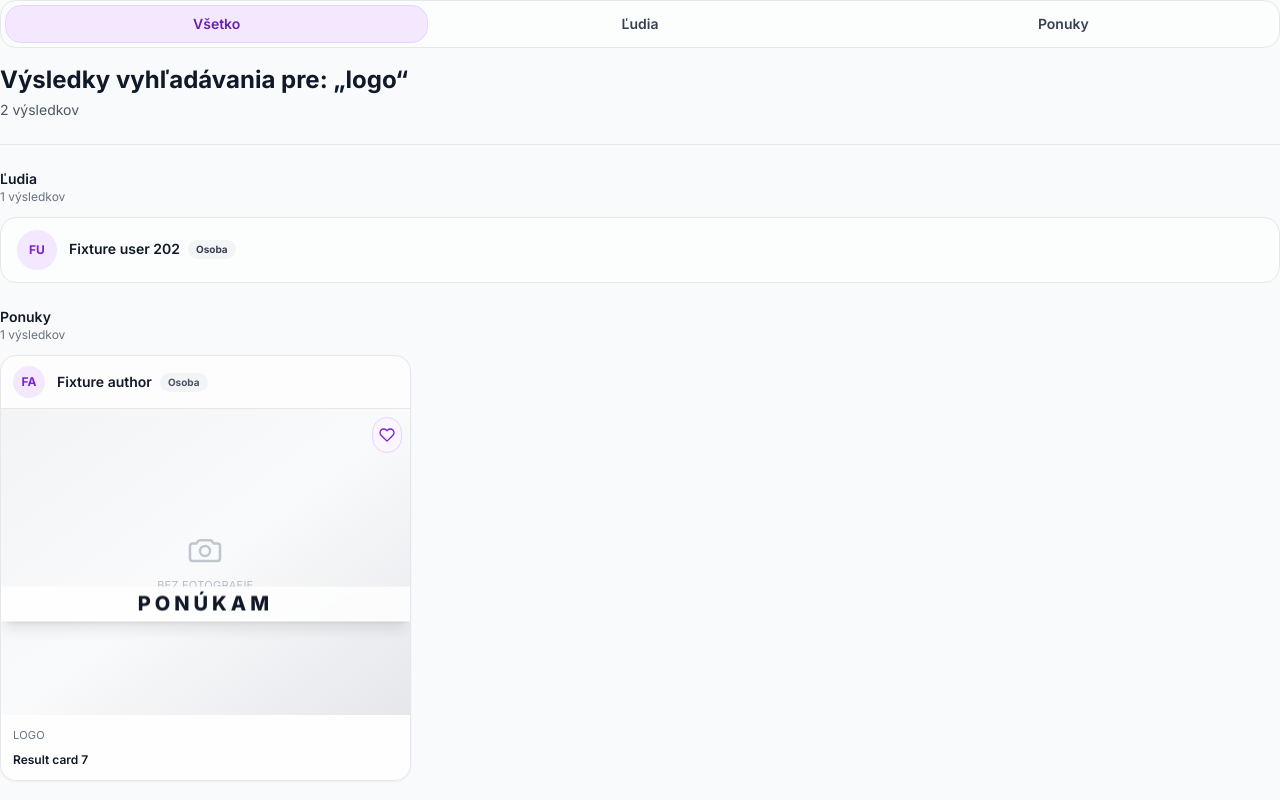
Test: actual /search page all cards › retains working mobile Like, stops its click from opening a detail, and accepts server truth
The width and height of the screenshot is (1280, 800).
Expected: the text "Result card 7" is shown, [13, 752, 88, 767]
Expected: the button "Result card 7" is shown, [1, 409, 410, 780]
Click the button named "Páči sa mi to" at {"x": 387, "y": 435}, box [372, 417, 402, 453]
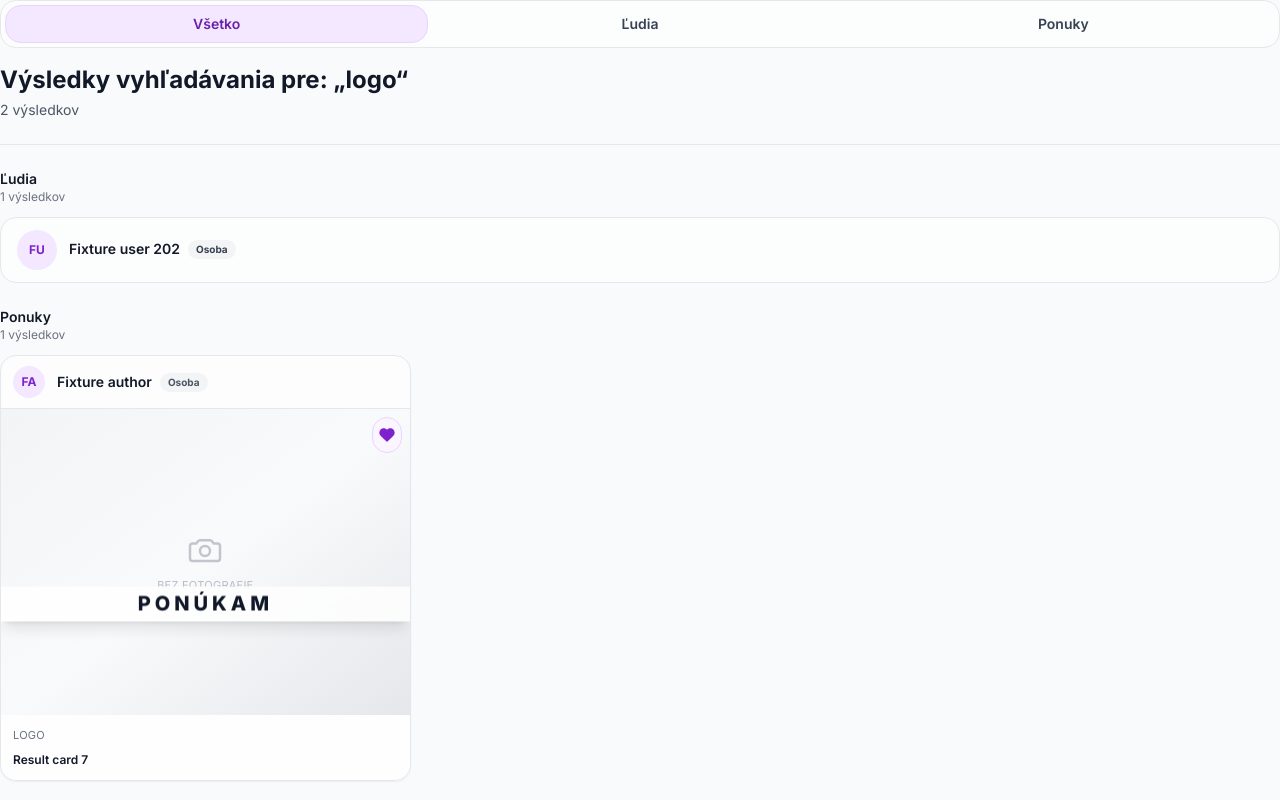
Expected: the text "Ponúkam" is shown, [138, 591, 273, 615]
Expected: the button named "Páči sa mi to" is pressed, [372, 417, 402, 453]
Click the button "Result card 7" at {"x": 205, "y": 594}, box [1, 409, 410, 780]
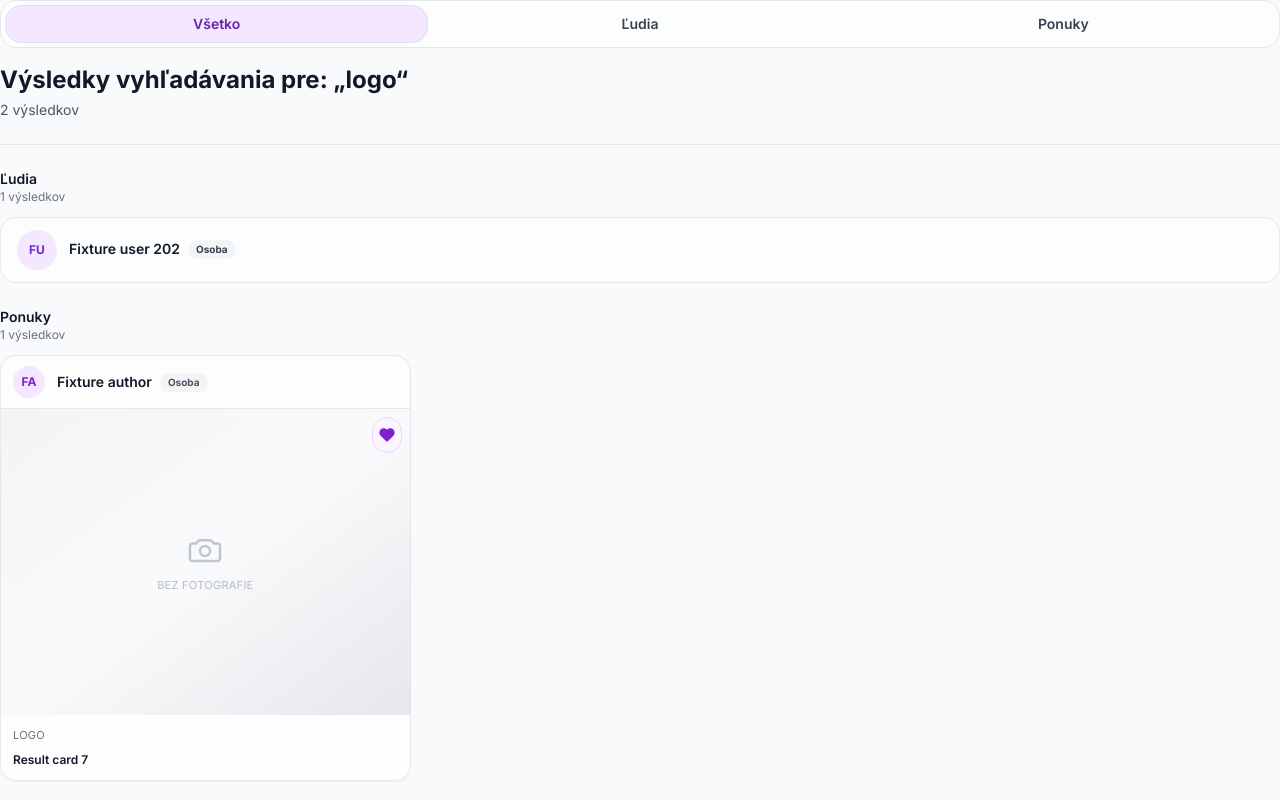
Click the button "Bez fotografie Logo Result card 7" at {"x": 205, "y": 594}, box [1, 409, 410, 780]
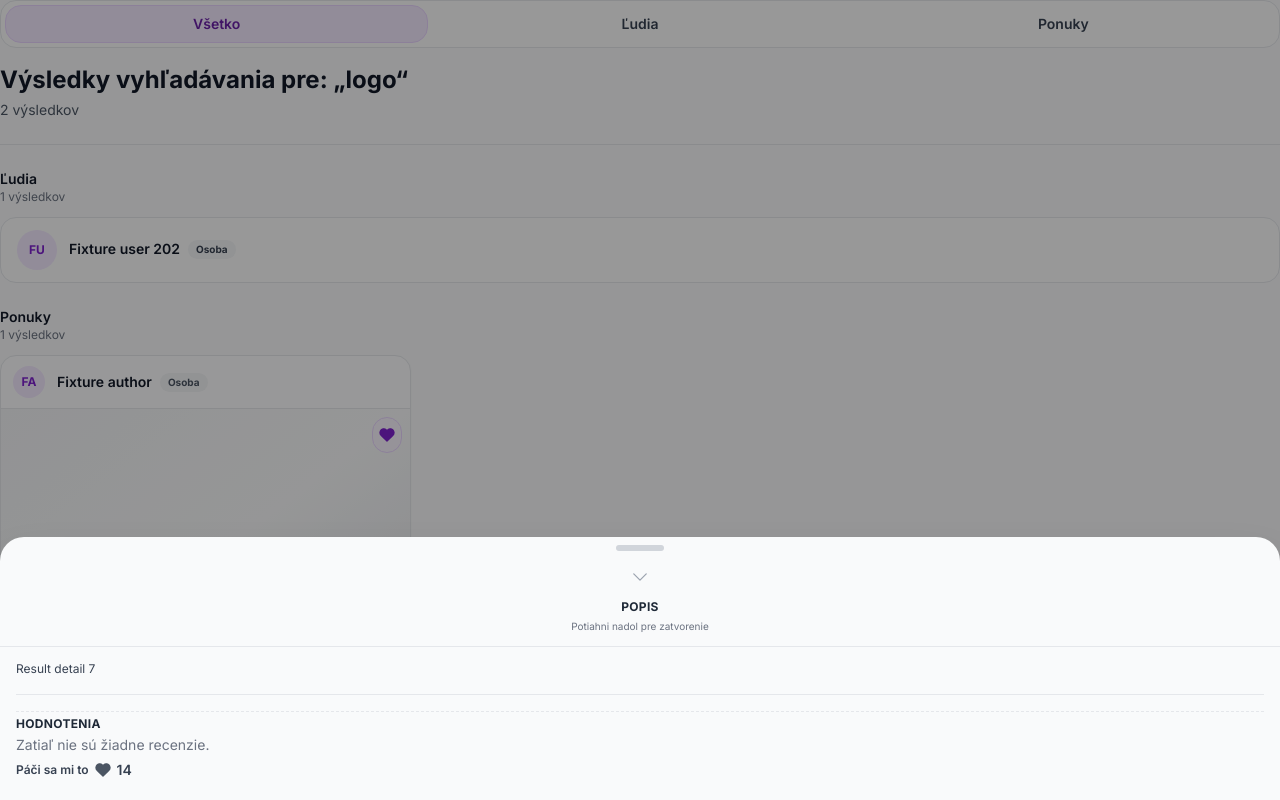
Expected: the text "14" is shown, [117, 760, 132, 780]
